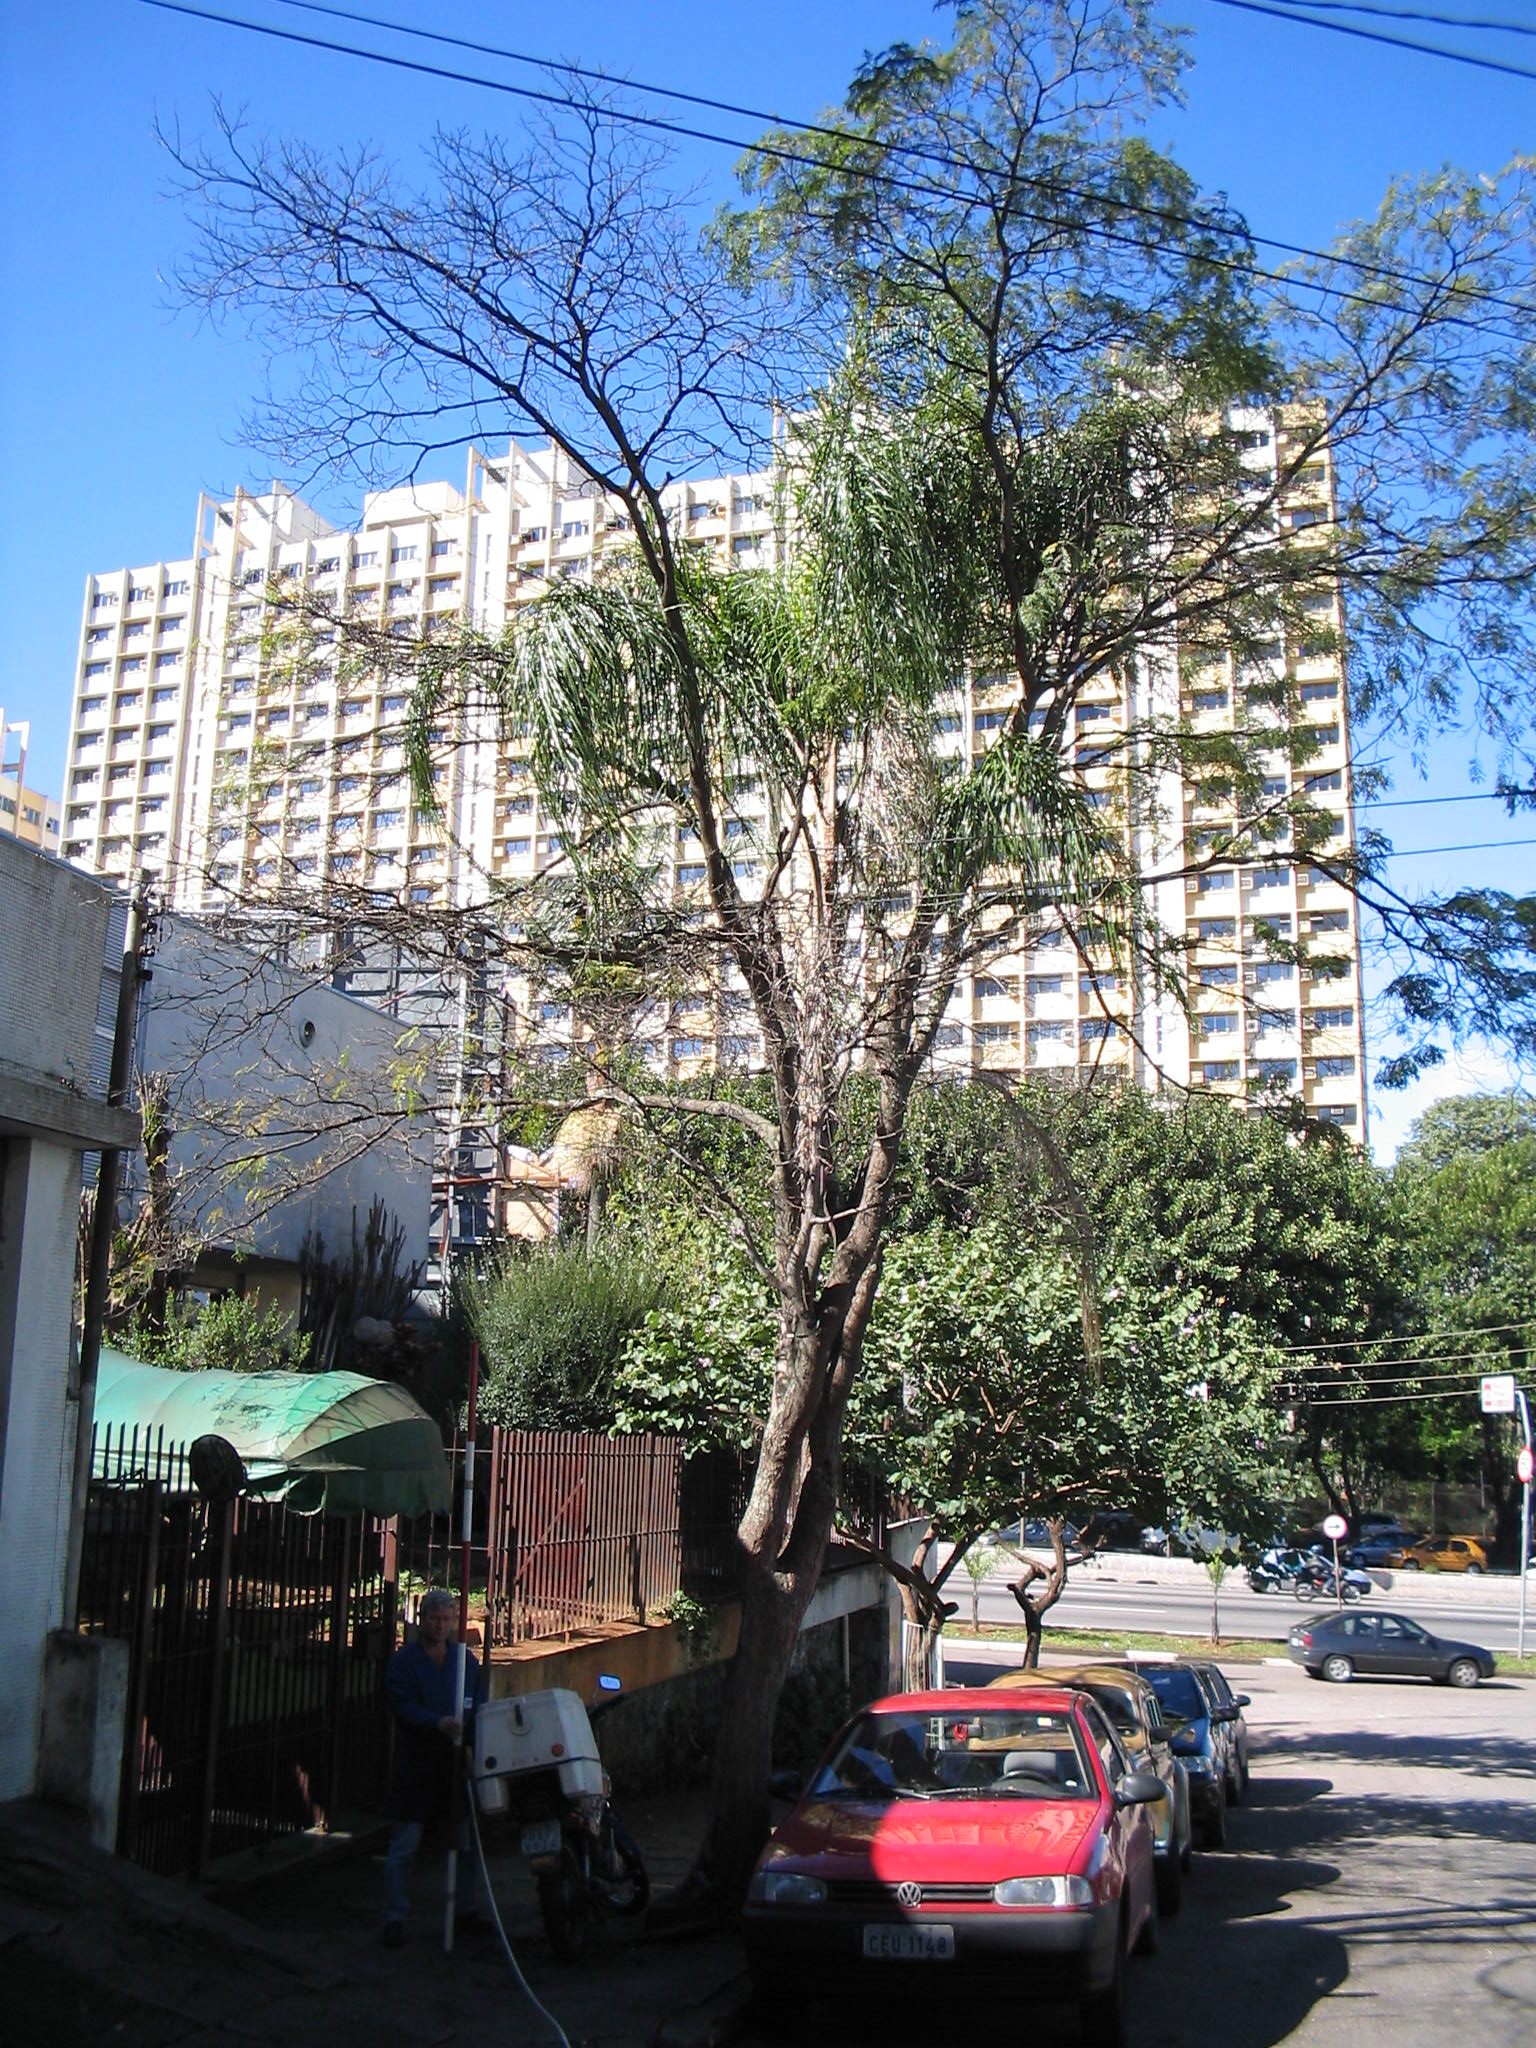crown: (137, 15, 1521, 1122)
stem: (653, 1527, 857, 1951)
stick: (419, 1335, 508, 1951)
tree: (123, 6, 1526, 1959)
